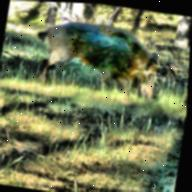boar: (23, 10, 165, 112)
